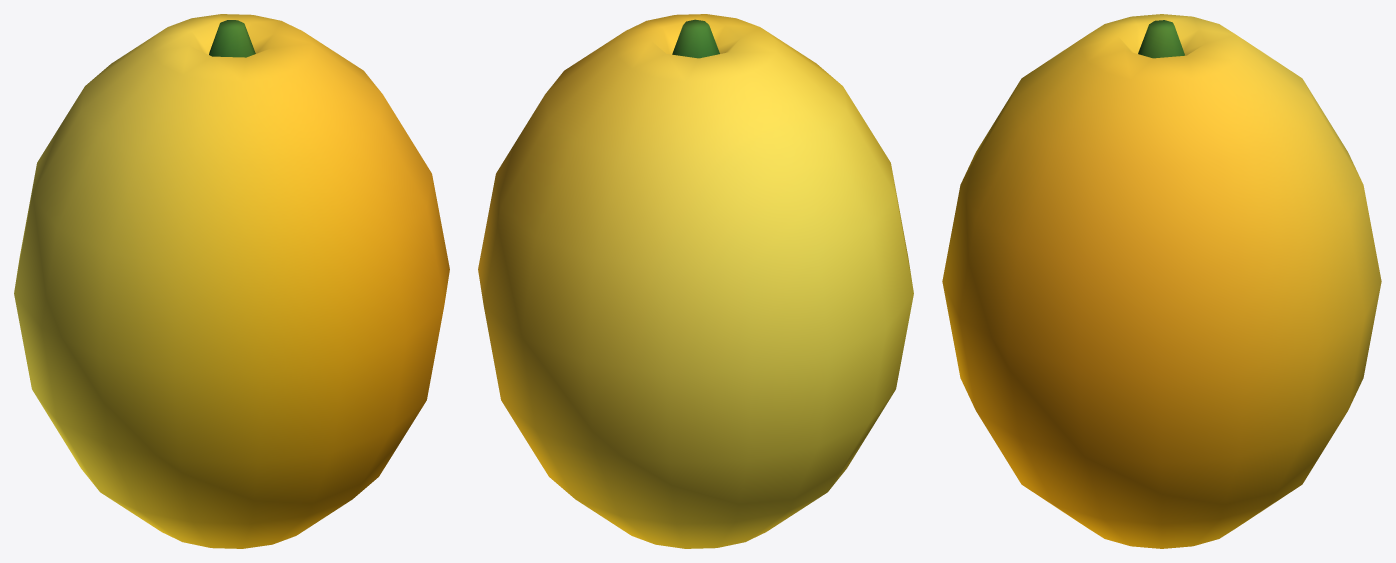
Rendered from lemon_001.fbx.
3 renders of one model, left to right at view 1: azimuth 30°, elevation 25°; view 2: azimuth 150°, elevation 25°; view 3: azimuth 270°, elevation 25°, orthographic.
Visible parts, largest first — view 1: lemon_001; view 2: lemon_001; view 3: lemon_001.
Part boxes in pixels (x1,y1,x2,y2): lemon_001: (14, 14, 449, 548); lemon_001: (478, 14, 913, 548); lemon_001: (942, 14, 1381, 548).
Size of the model in its own units: 9.06 by 9.06 by 11.58.
